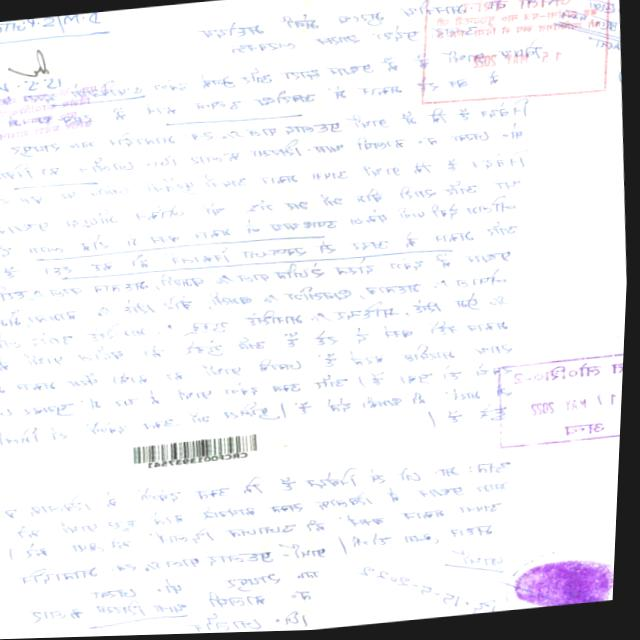antritgovtstamp: (478, 339, 624, 469)
barcode: (119, 427, 271, 479)
fingerprint: (508, 546, 615, 609)
jantadarsan: (398, 0, 623, 113)
signnamestamp: (0, 40, 132, 146)
